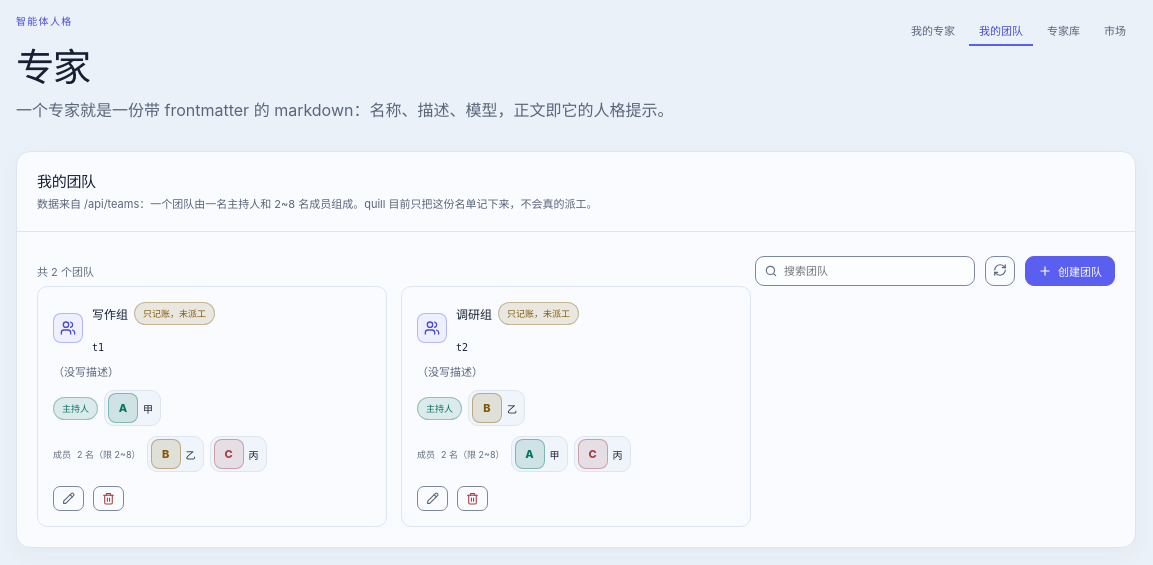
Test case: 搜索能命中成员显示名，空态说的是「团队」不是「专家」
Check: the text "共 2 个团队" is shown, box [37,263,94,279]
// 按成员显示名找：乙 只在 t1 的成员里（t2 的成员是 甲/丙）。
Type "乙" into the search field labelled "搜索团队" at (865, 271), box [755,256,975,286]
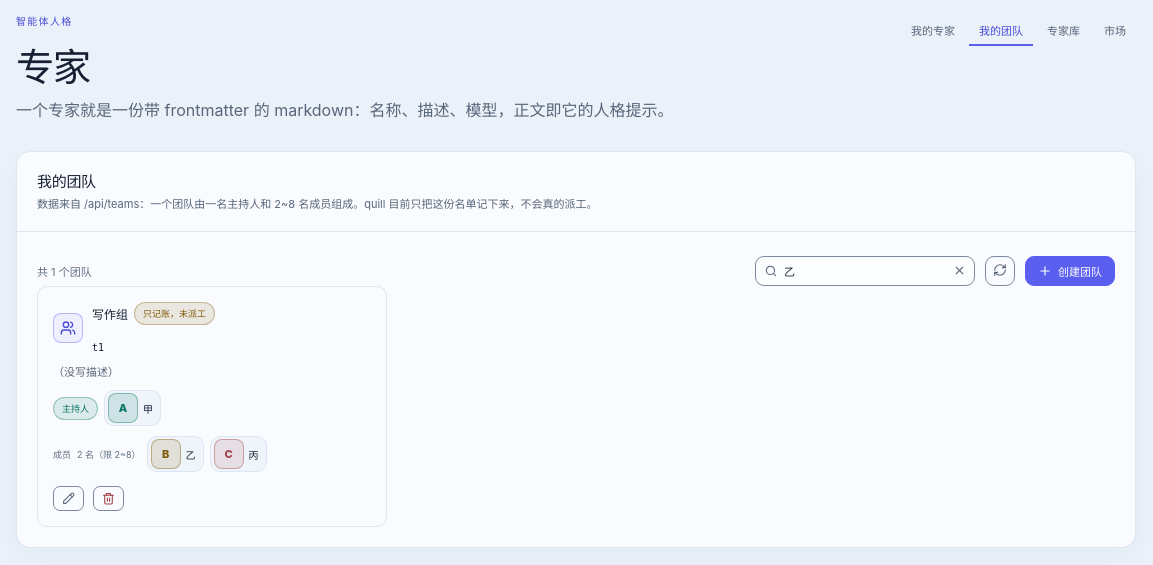
Check: the text "写作组" is shown, box [92,307,128,322]
Check: the text "共 1 个团队" is shown, box [37,263,92,279]
Check: the text "调研组" is gone
// 搜不到时不能出现「没有匹配的专家」——这里是团队列表。
Replace the text in the search field named "搜索团队" with "不存在的团队" at (865, 271), box [755,256,975,286]
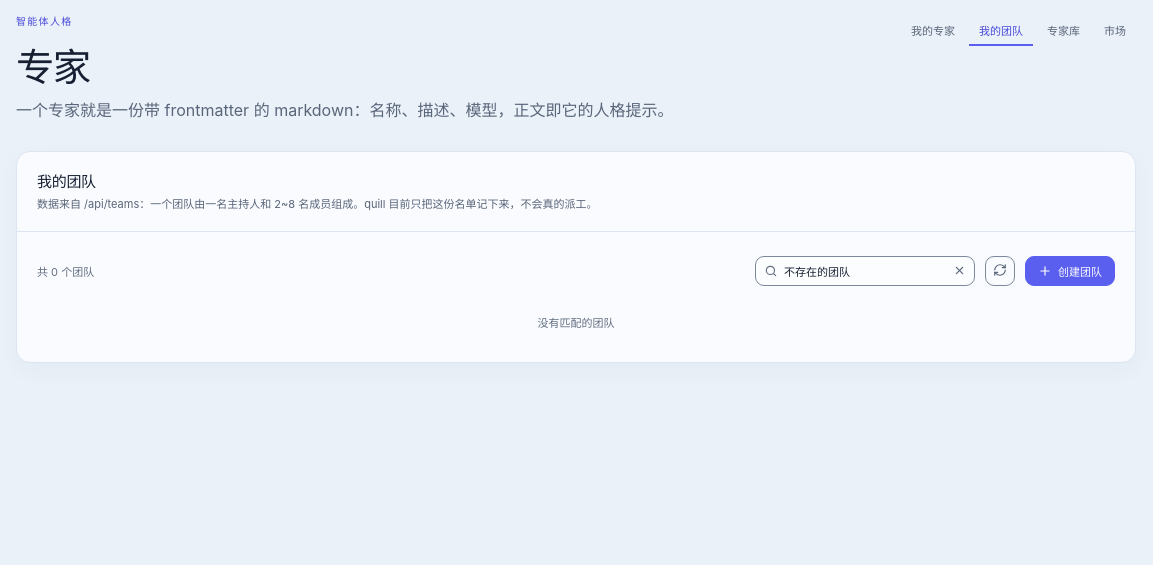
Check: the text "没有匹配的团队" is shown, box [538,316,614,330]
